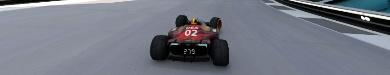Car: (149, 14, 229, 66)
